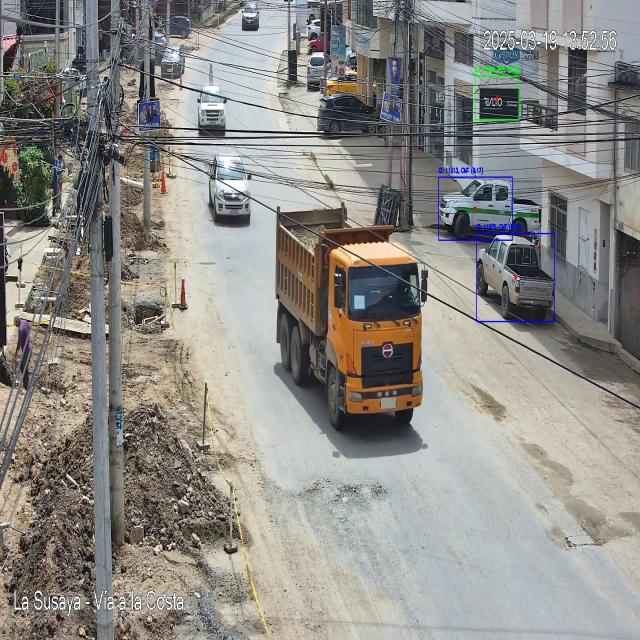TRUCK: (275, 208, 423, 430)
